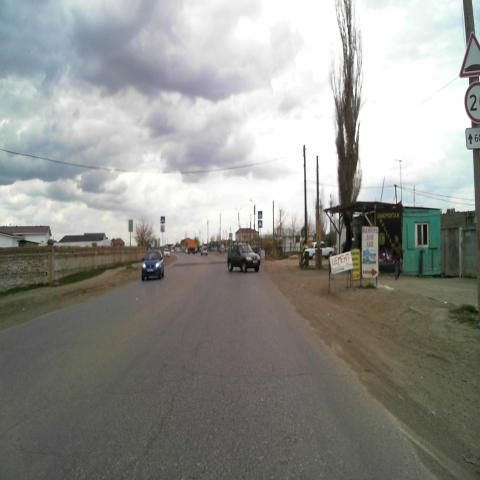1_17: (460, 30, 480, 80)
